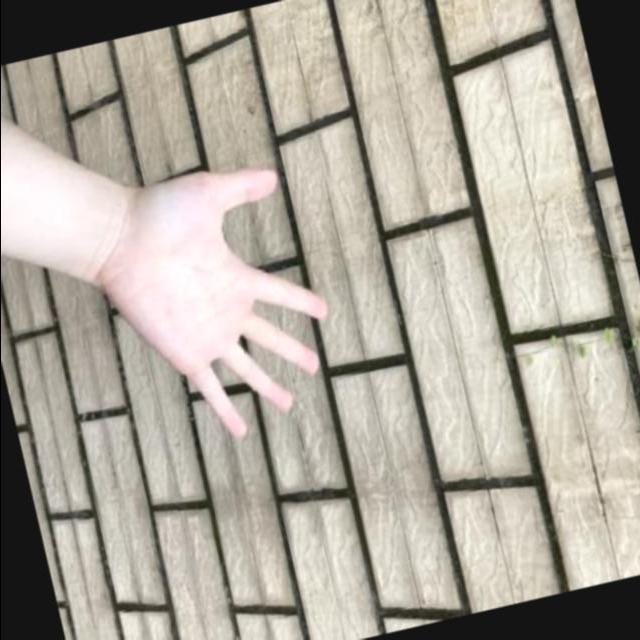hand: (77, 140, 363, 470)
